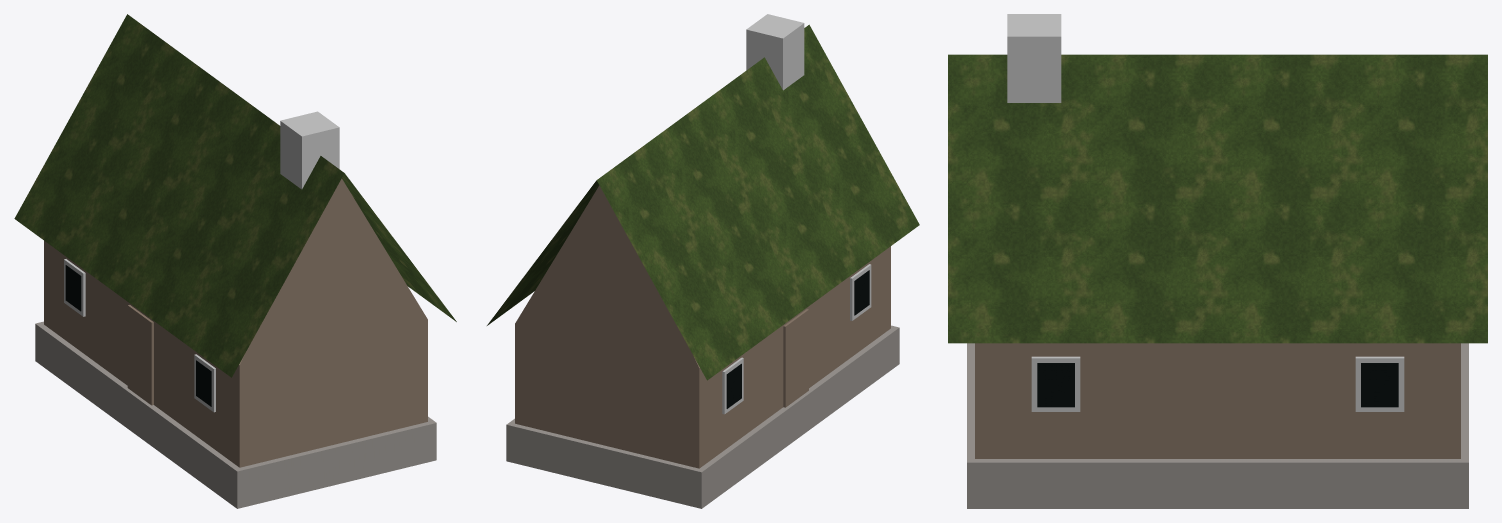
Rendered from SM_Art_Settlement_Nordic_0.gltf.
3 views of the same model, side by side, from view 1: azimuth 30°, elevation 25°; view 2: azimuth 150°, elevation 25°; view 3: azimuth 270°, elevation 25° (orthographic). The views are drawn at different scales.
Visible parts, largest first — view 1: SM_Art_Settlement_Nordic_0; view 2: SM_Art_Settlement_Nordic_0; view 3: SM_Art_Settlement_Nordic_0.
Boxes of the visible parts, x1,y1,x2,y2 form: SM_Art_Settlement_Nordic_0: (14, 14, 456, 508); SM_Art_Settlement_Nordic_0: (487, 14, 919, 508); SM_Art_Settlement_Nordic_0: (948, 14, 1487, 508).
Bounding box in the file's own units: 6 × 8.65 × 10.
